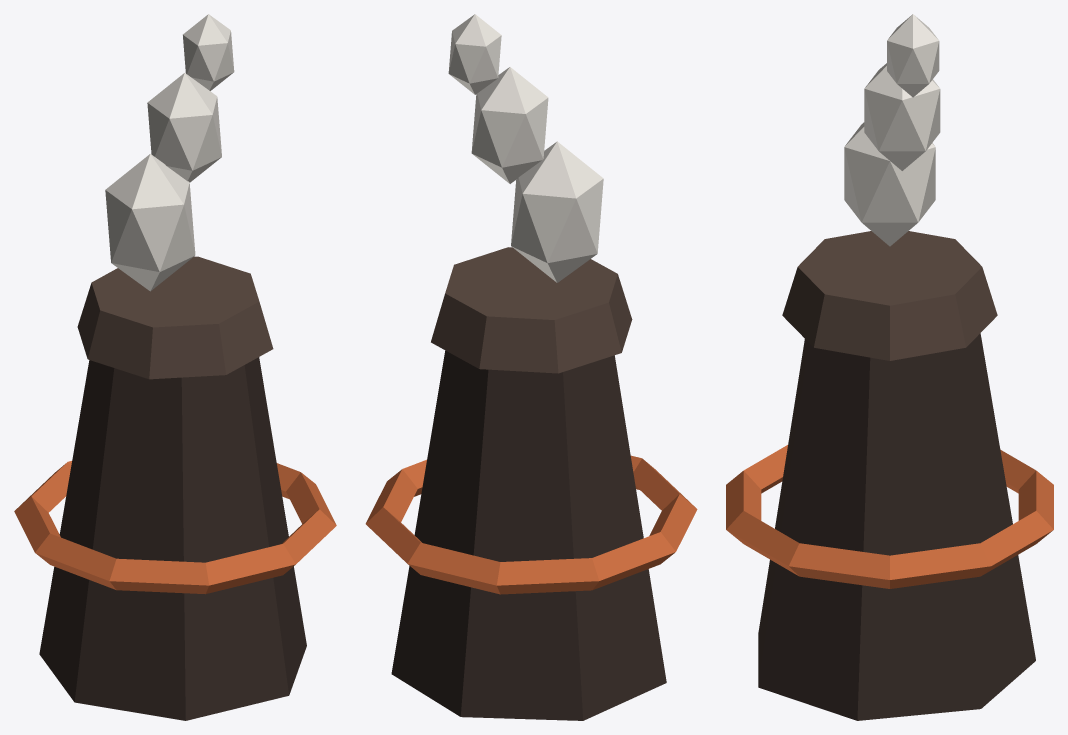
The model's file is tree_palm.glb.
The picture shows the model from 3 angles, left to right: view 1: azimuth 30°, elevation 25°; view 2: azimuth 150°, elevation 25°; view 3: azimuth 270°, elevation 25°; orthographic projection. The views are drawn at different scales.
Parts seen in each view (by area): view 1: tree_palm; view 2: tree_palm; view 3: tree_palm.
Part boxes in pixels (box(x1,y1,x2,y2)): tree_palm: box(14, 14, 336, 720); tree_palm: box(365, 14, 697, 720); tree_palm: box(726, 14, 1053, 720).
Bounding box in the file's own units: 0.224 × 0.48 × 0.213.
